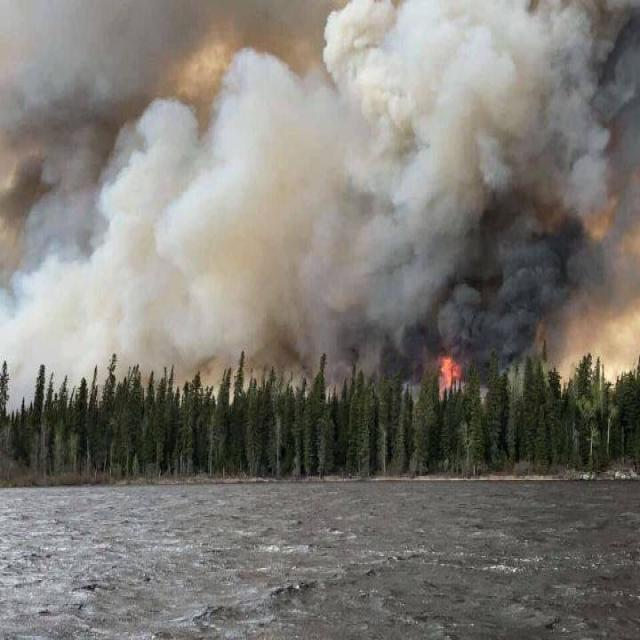Smoke: (2, 1, 640, 380)
